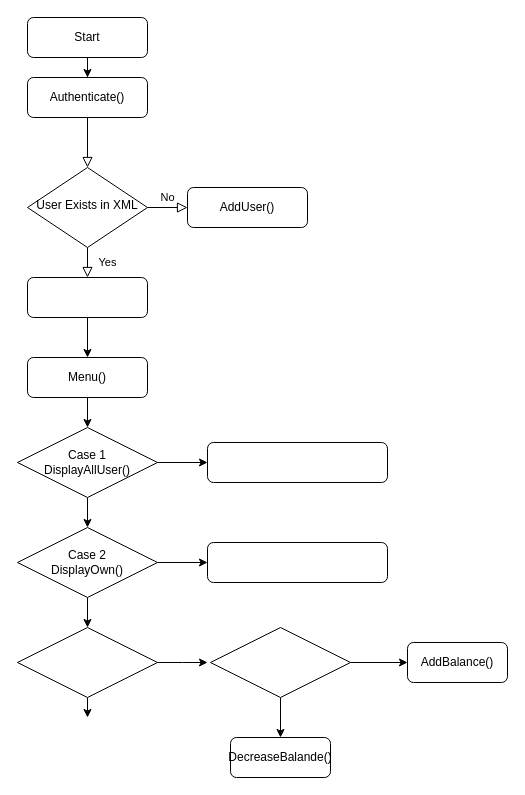
This 525x795 diagram has some shape labels left out. Each missing label, with the centre of its shape:
Case 3 ChangeBalance(): the point at 87,662
Display all users and accounts: the point at 297,462
Display current users account: the point at 297,562
Home(): the point at 87,297
Increase/Decrease?: the point at 280,662
